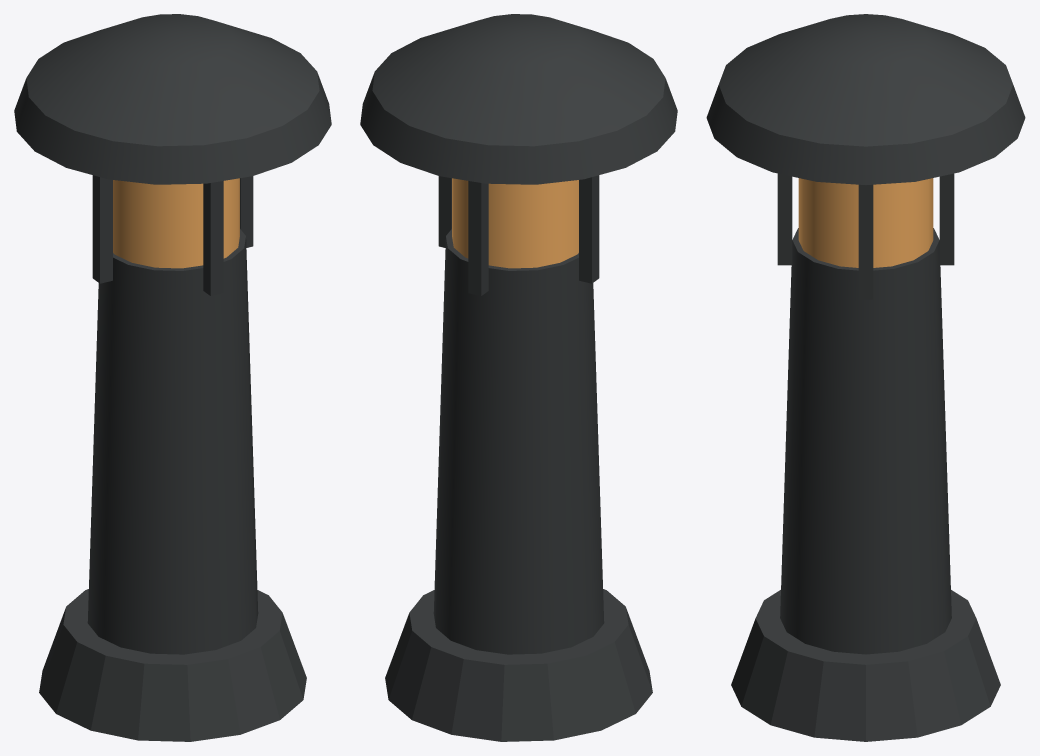
The model's file is lamp.glb.
The picture shows the model from 3 angles, left to right: view 1: azimuth 30°, elevation 25°; view 2: azimuth 150°, elevation 25°; view 3: azimuth 270°, elevation 25°; orthographic projection.
Parts seen in each view (by area): view 1: steel1, steel3, steel0, glowLamp2, steel5, steel6, steel4; view 2: steel1, steel3, steel0, glowLamp2, steel7, steel6, steel4; view 3: steel1, steel3, steel0, glowLamp2, steel4, steel5, steel7.
Part boxes in pixels (box(x1,y1,x2,y2)): steel1: box(87, 229, 258, 654); steel3: box(14, 14, 331, 184); steel0: box(39, 589, 306, 741); glowLamp2: box(113, 178, 239, 268); steel5: box(203, 181, 223, 296); steel6: box(92, 175, 112, 283); steel4: box(240, 176, 253, 247); steel1: box(433, 229, 604, 654); steel3: box(360, 14, 677, 184); steel0: box(385, 589, 652, 741); glowLamp2: box(452, 178, 578, 268); steel7: box(468, 181, 488, 296); steel6: box(579, 175, 599, 283); steel4: box(438, 176, 451, 247); steel1: box(780, 228, 951, 654); steel3: box(706, 14, 1025, 184); steel0: box(731, 590, 1000, 741); glowLamp2: box(798, 178, 933, 267); steel4: box(858, 184, 873, 299); steel5: box(777, 173, 792, 265); steel7: box(939, 173, 954, 265).
Size of the model in its own units: 0.26 by 0.585 by 0.26.
